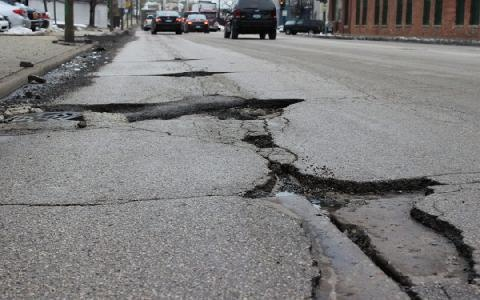pothole: (237, 158, 479, 299), (215, 95, 307, 123), (42, 99, 156, 115), (239, 132, 281, 150), (161, 68, 227, 77)
